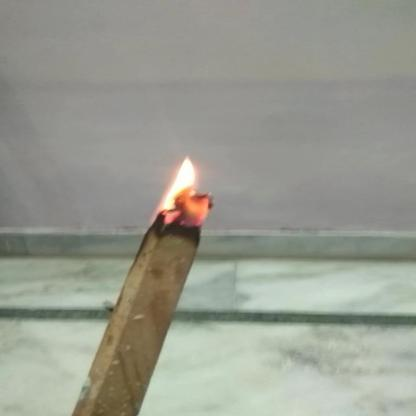fire: (144, 152, 223, 227)
